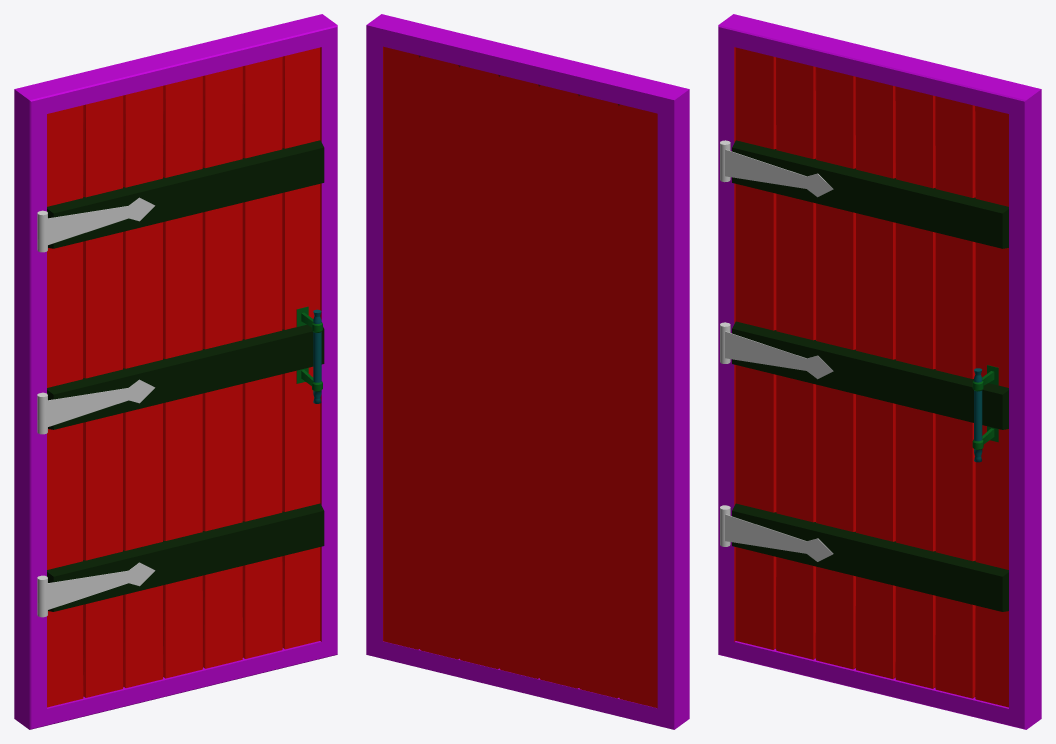
Rendered from Door01.fbx.
The picture shows the model from 3 angles, left to right: view 1: azimuth 30°, elevation 25°; view 2: azimuth 150°, elevation 25°; view 3: azimuth 330°, elevation 25°; orthographic projection.
Parts seen in each view (by area): view 1: Box008, Box007, Box011, Box009, Box010, Cylinder001; view 2: Box008, Box007; view 3: Box008, Box007, Box009, Box011, Box010, Cylinder001.
Boxes of the visible parts, box(x1,y1,x2,y2) form: Box008: box(47, 47, 324, 707); Box007: box(14, 14, 337, 729); Box011: box(47, 197, 155, 245); Box009: box(47, 562, 155, 610); Box010: box(47, 379, 155, 427); Cylinder001: box(296, 306, 322, 403); Box008: box(383, 46, 657, 708); Box007: box(366, 14, 689, 729); Box008: box(732, 47, 1008, 707); Box007: box(718, 14, 1041, 729); Box009: box(725, 514, 833, 561); Box011: box(725, 149, 833, 197); Box010: box(725, 331, 833, 379); Cylinder001: box(972, 365, 998, 462).
Bounding box in the file's own units: 112 × 219 × 20.07.
